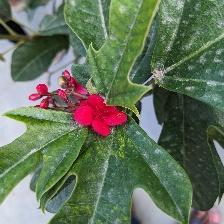jatropha: (73, 93, 130, 138)
